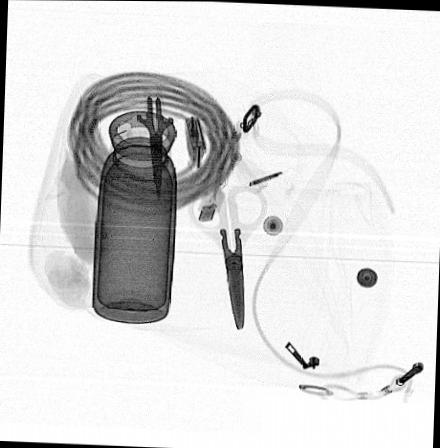Scissors: (188, 183, 267, 330), (116, 74, 192, 204)
